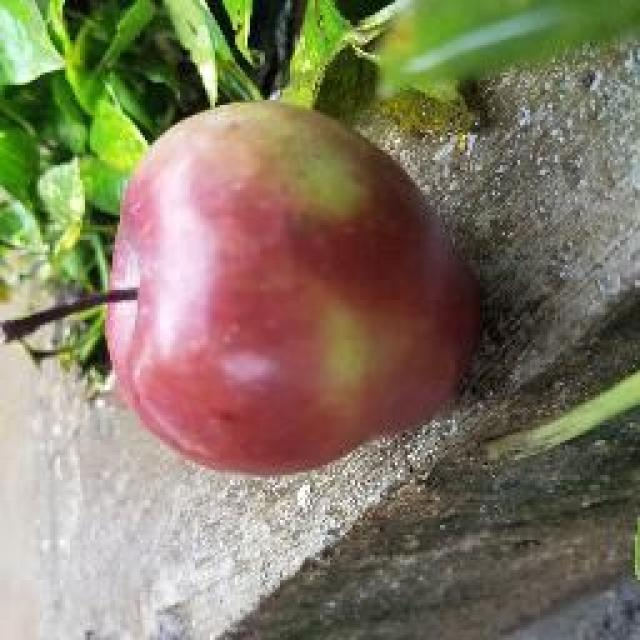Good_Apple: (102, 100, 482, 478)
